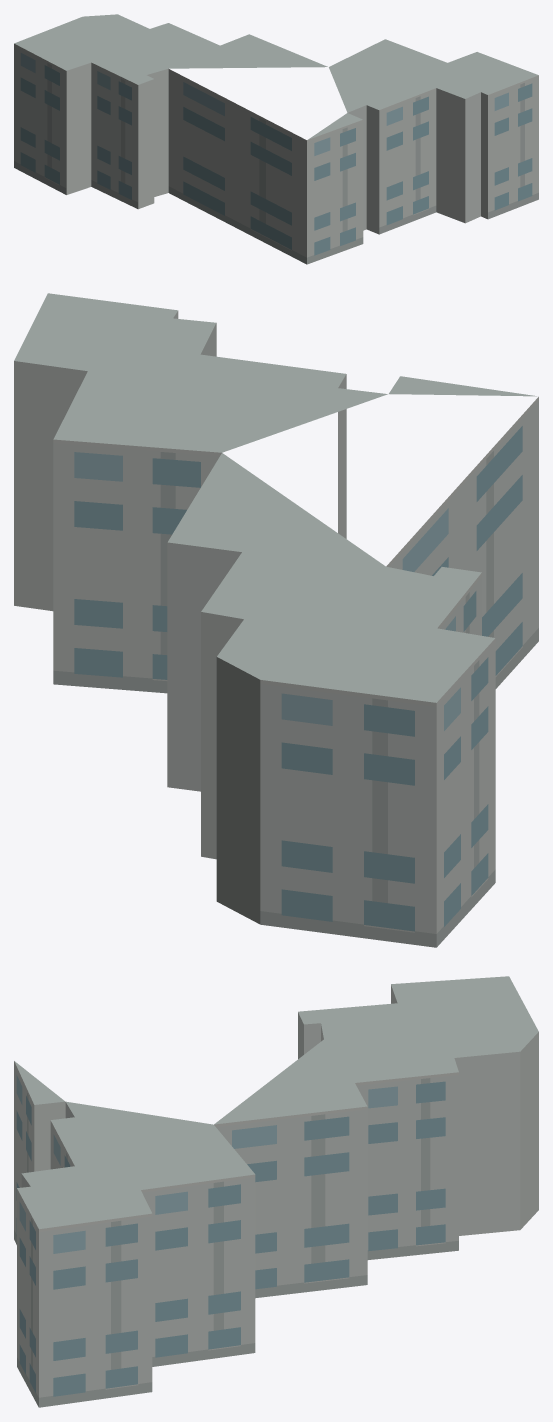
Rendered from residential-aac7da7c-0d61-49b1-aa30-f925593b854d.glb.
The picture shows the model from 3 angles, top to bottom: view 1: azimuth 30°, elevation 25°; view 2: azimuth 150°, elevation 25°; view 3: azimuth 270°, elevation 25°; orthographic projection. The views are drawn at different scales.
Visible parts, largest first — view 1: residential-aac7da7c-0d61-49b1-aa30-f925593b854d.tmp; view 2: residential-aac7da7c-0d61-49b1-aa30-f925593b854d.tmp; view 3: residential-aac7da7c-0d61-49b1-aa30-f925593b854d.tmp.
Part boxes in pixels (left/top/right/bottom): residential-aac7da7c-0d61-49b1-aa30-f925593b854d.tmp: left=14, top=14, right=538, bottom=264; residential-aac7da7c-0d61-49b1-aa30-f925593b854d.tmp: left=14, top=293, right=538, bottom=947; residential-aac7da7c-0d61-49b1-aa30-f925593b854d.tmp: left=14, top=976, right=538, bottom=1407.
Bounding box in the file's own units: 46.37 × 15.25 × 40.65.
